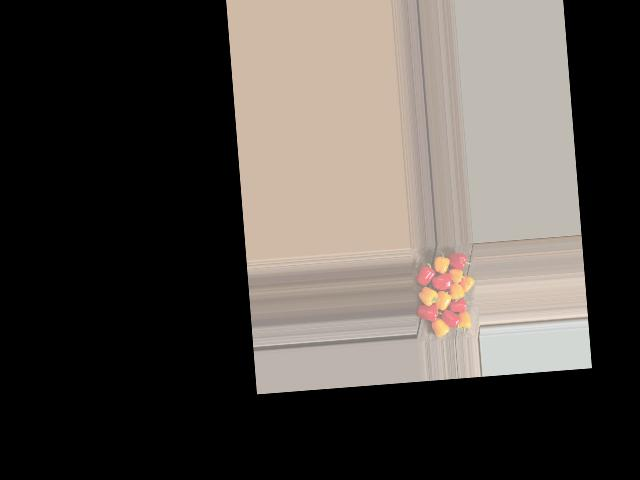bell_pepper: (427, 312, 450, 338)
